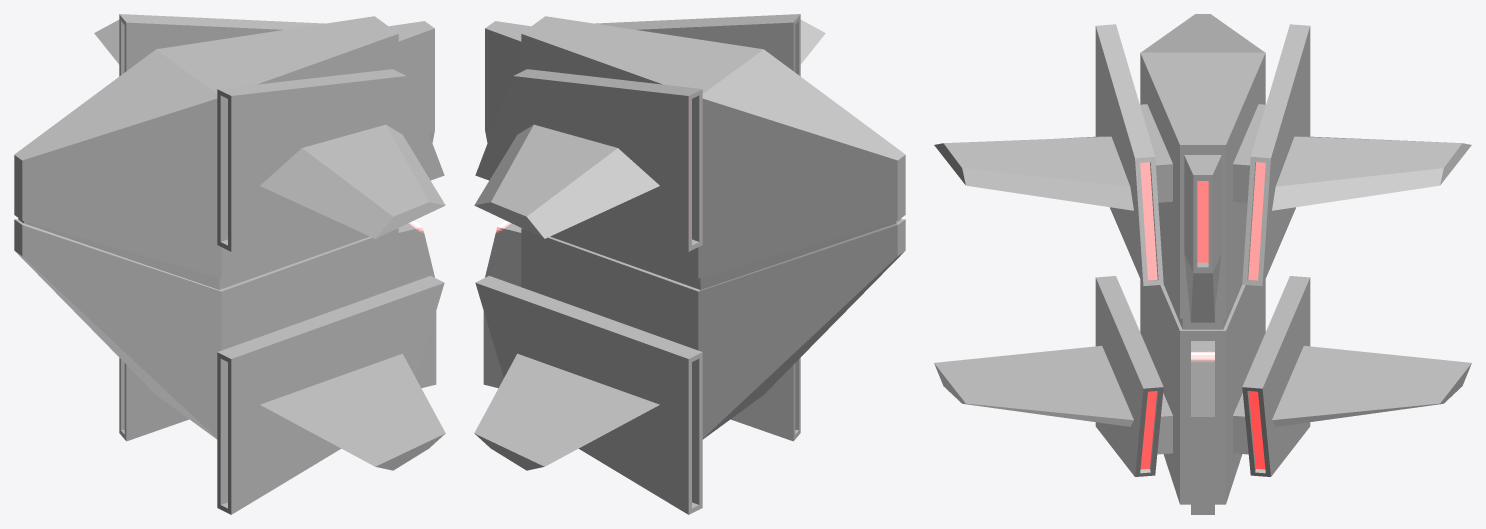
Rendered from Drone_enemy.fbx.
3 views of the same model, side by side, from view 1: azimuth 30°, elevation 25°; view 2: azimuth 150°, elevation 25°; view 3: azimuth 270°, elevation 25° (orthographic). The views are drawn at different scales.
Visible parts, largest first — view 1: Drone_Low; view 2: Drone_Low; view 3: Drone_Low.
Part boxes in pixels (box(x1,y1,x2,y2)): Drone_Low: box(14, 14, 445, 514); Drone_Low: box(474, 14, 905, 514); Drone_Low: box(934, 14, 1471, 514).
Size of the model in its own units: 33.32 by 32.41 by 39.43.
